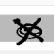not correct: (9, 16, 48, 47)
